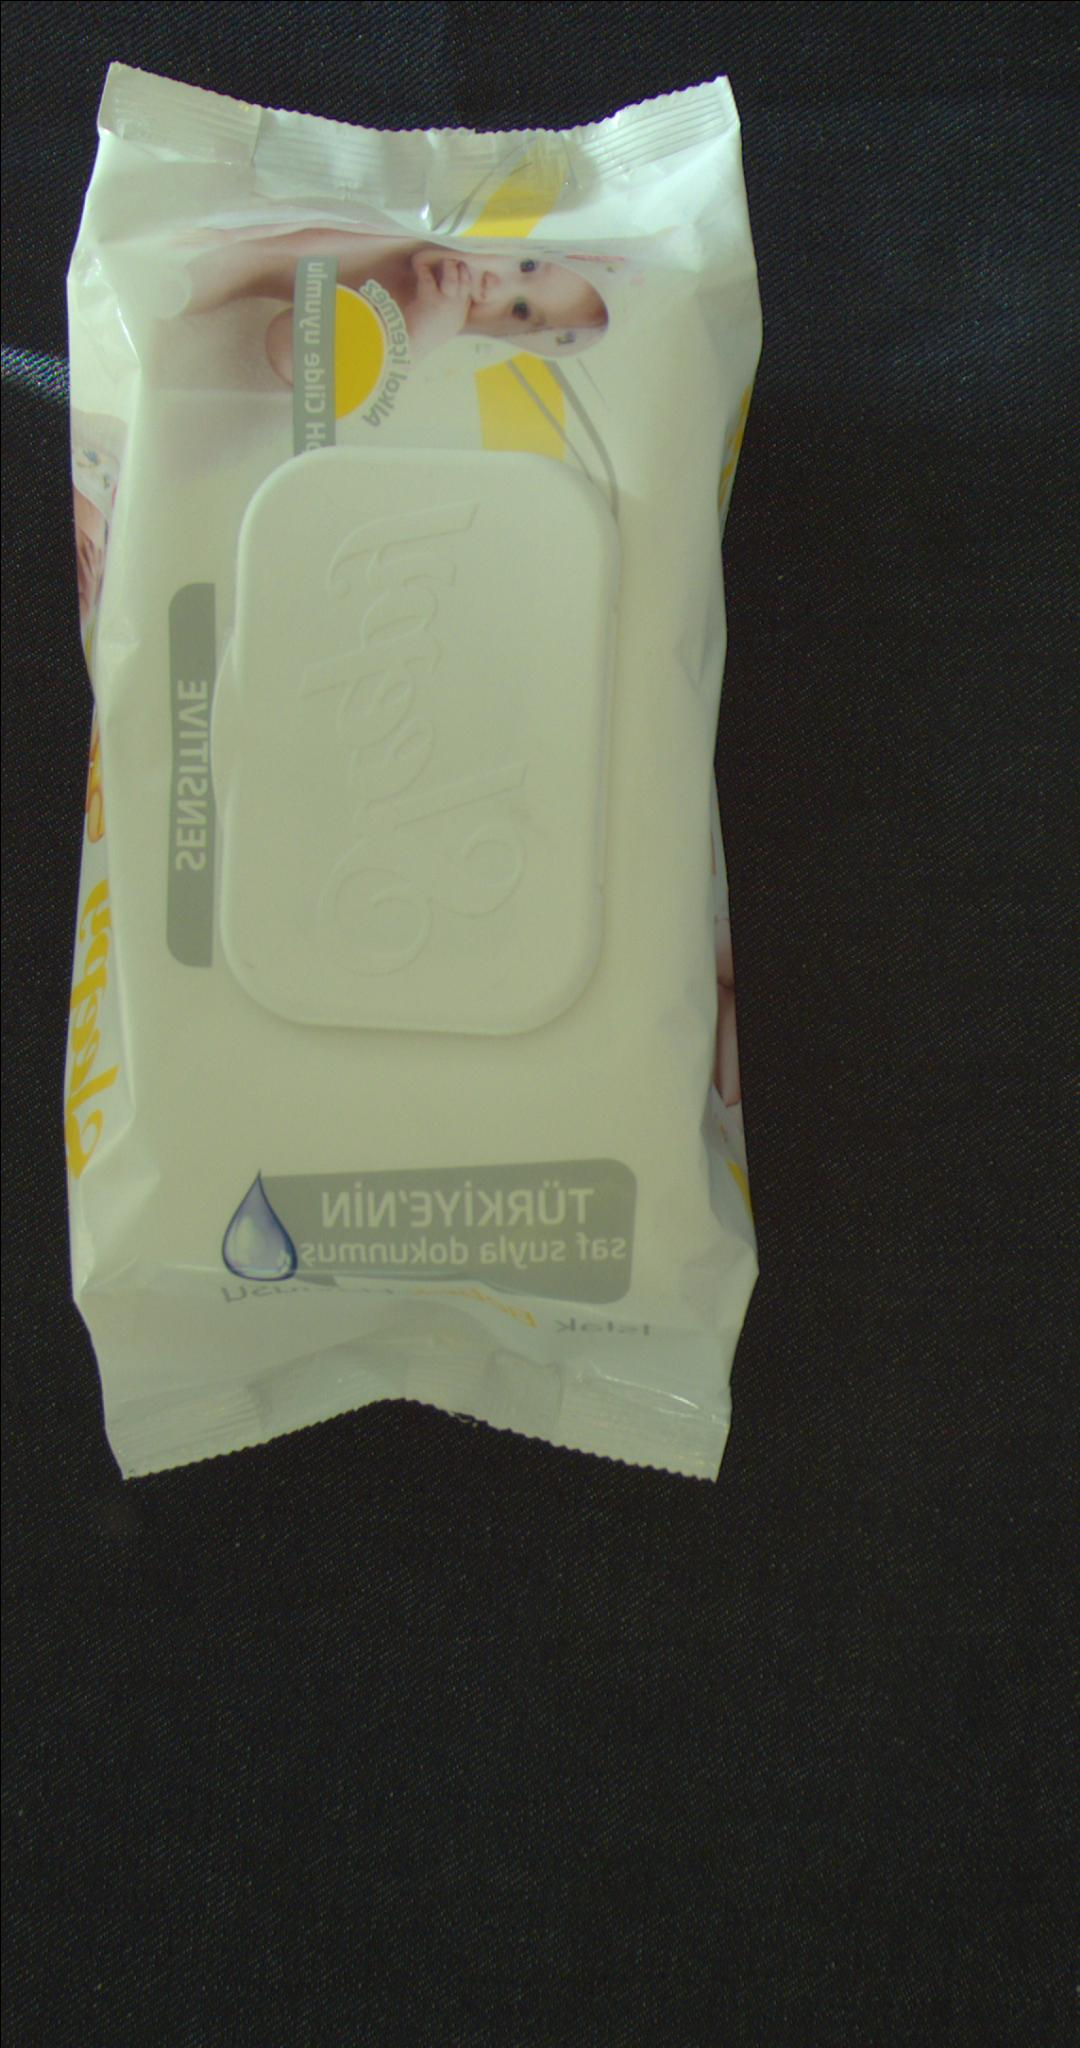kapak: (211, 459, 614, 1033)
